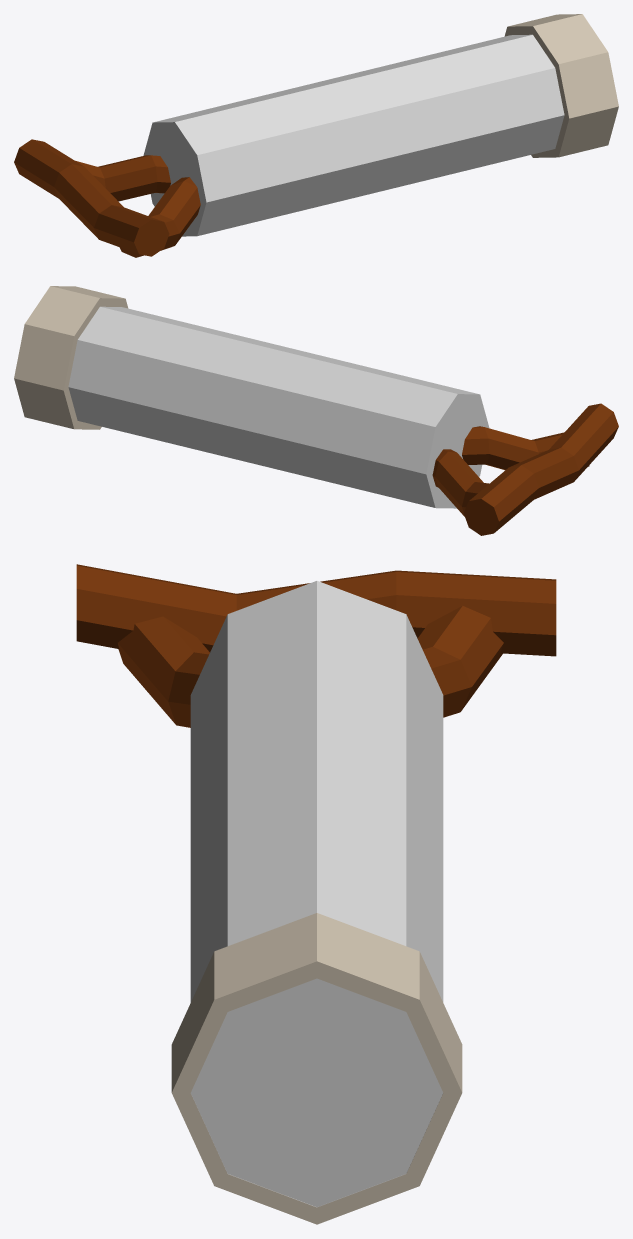
The model's file is Levier_Grand.FBX.
3 views of the same model, one above another, from view 1: azimuth 30°, elevation 25°; view 2: azimuth 150°, elevation 25°; view 3: azimuth 270°, elevation 25° (orthographic). The views are drawn at different scales.
Visible parts, largest first — view 1: Cylinder218; view 2: Cylinder218; view 3: Cylinder218.
Boxes of the visible parts, x1,y1,x2,y2 form: Cylinder218: [14, 14, 618, 257]; Cylinder218: [14, 286, 618, 535]; Cylinder218: [76, 564, 556, 1224].
Size of the model in its own units: 366 by 90.55 by 149.
